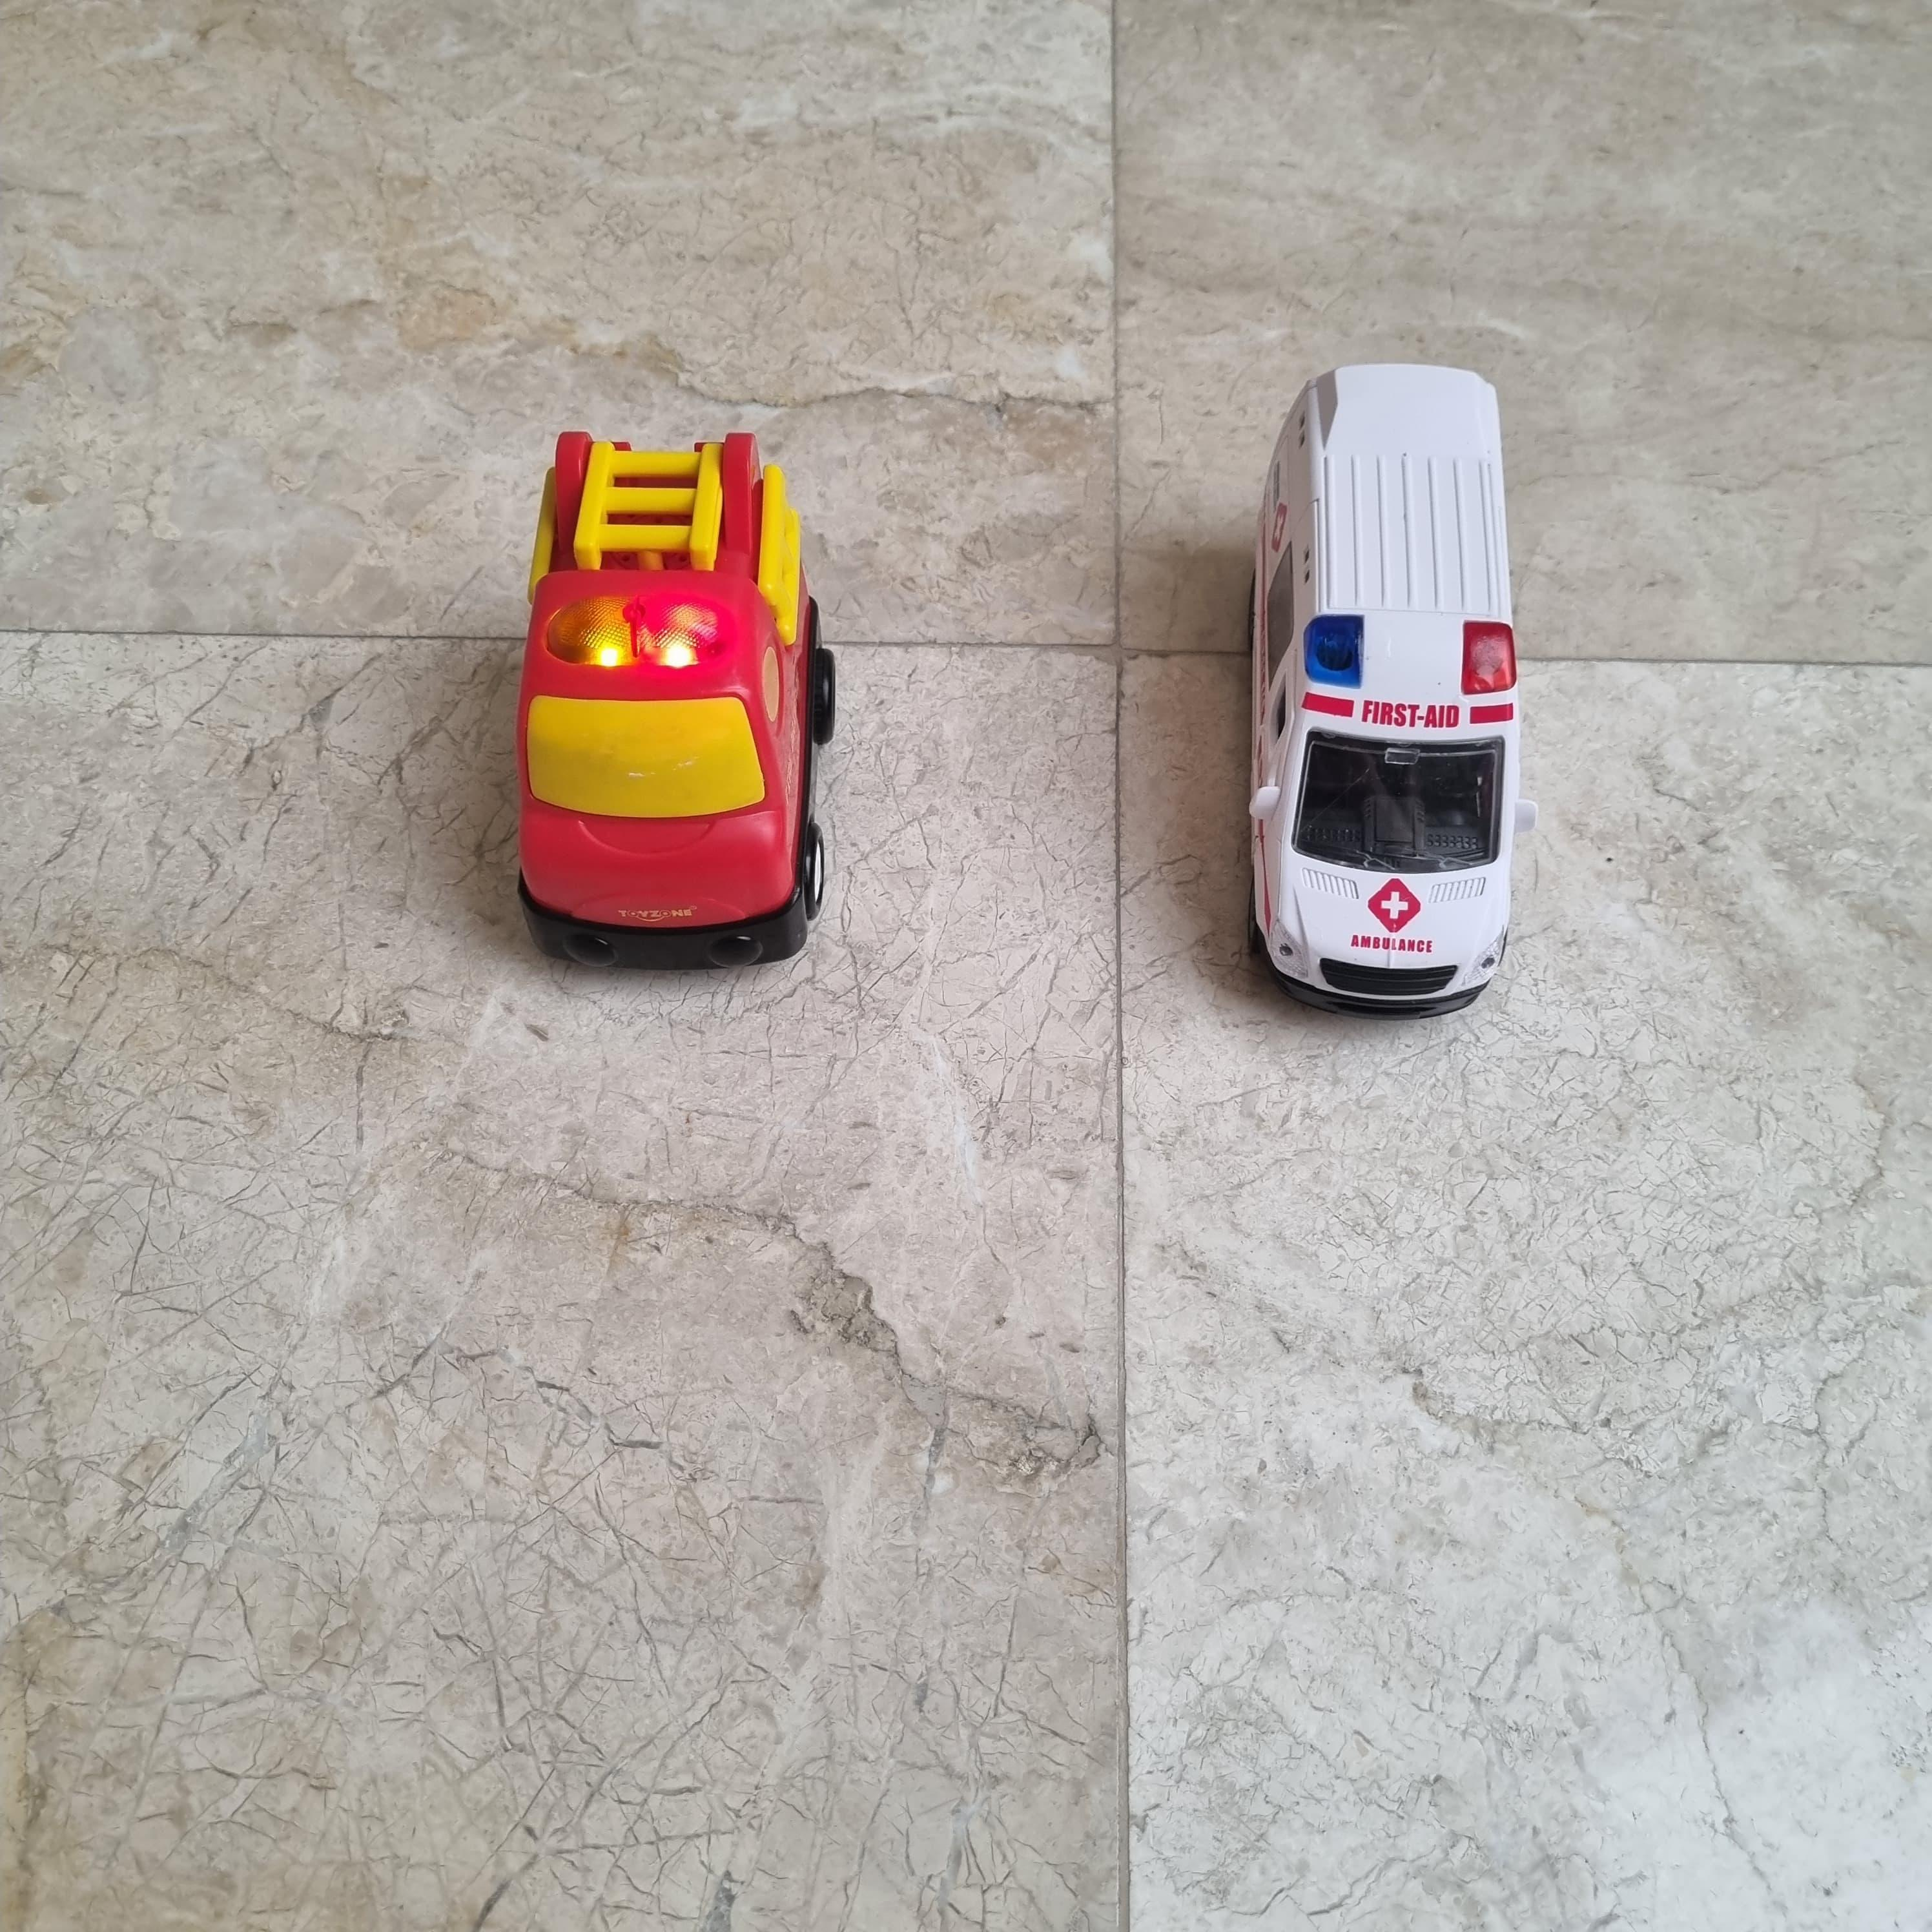ambulance_off: (1247, 361, 1539, 1021)
firetruck_on: (517, 428, 835, 970)
